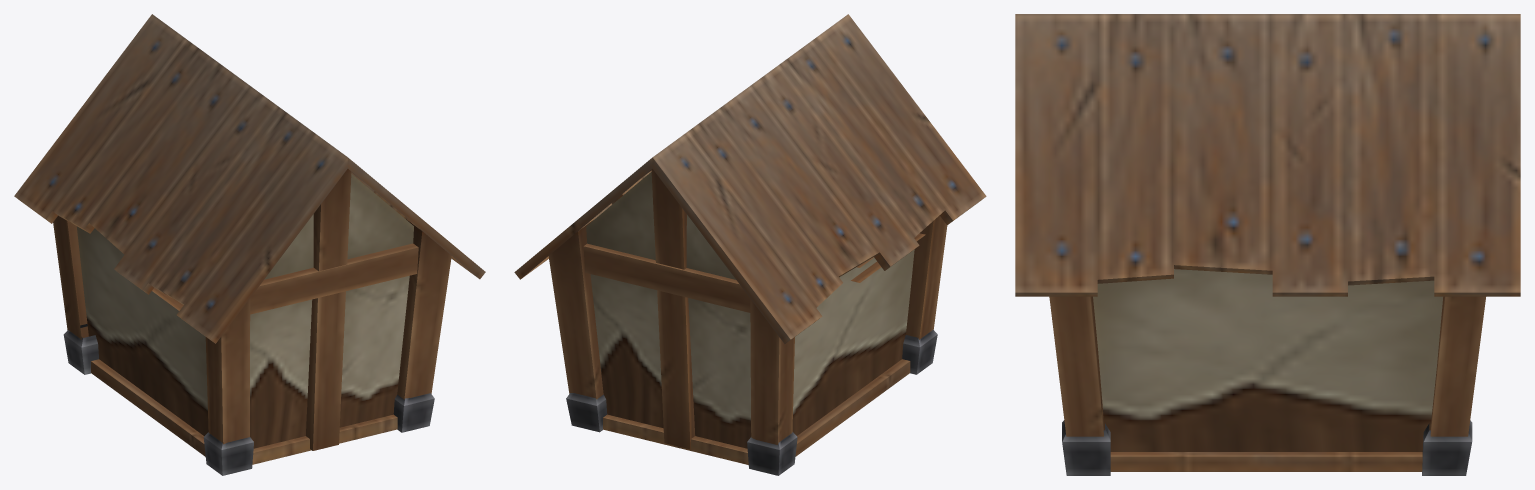
Rendered from mine_house_b.FBX.
3 renders of one model, left to right at view 1: azimuth 30°, elevation 25°; view 2: azimuth 150°, elevation 25°; view 3: azimuth 270°, elevation 25°, orthographic. The views are drawn at different scales.
Parts seen in each view (by area): view 1: polySurface1315; view 2: polySurface1315; view 3: polySurface1315.
Part boxes in pixels (left/top/right/bottom): polySurface1315: left=14, top=14, right=485, bottom=475; polySurface1315: left=514, top=14, right=986, bottom=475; polySurface1315: left=1015, top=14, right=1520, bottom=475.
Bounding box in the file's own units: 48.71 × 59.8 × 51.96.
